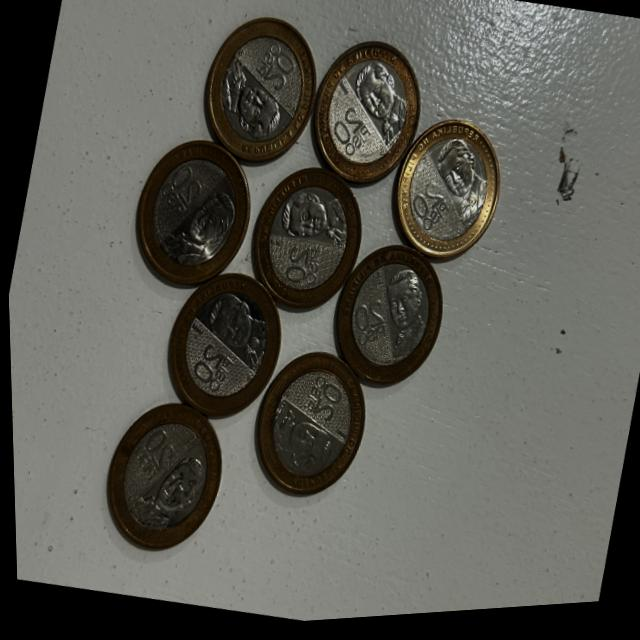20_New_Front: (242, 27, 303, 108), (120, 416, 179, 491), (282, 367, 348, 433), (151, 162, 209, 228), (317, 111, 379, 172), (343, 296, 395, 362), (268, 234, 322, 296), (179, 344, 236, 402), (400, 187, 450, 245)
